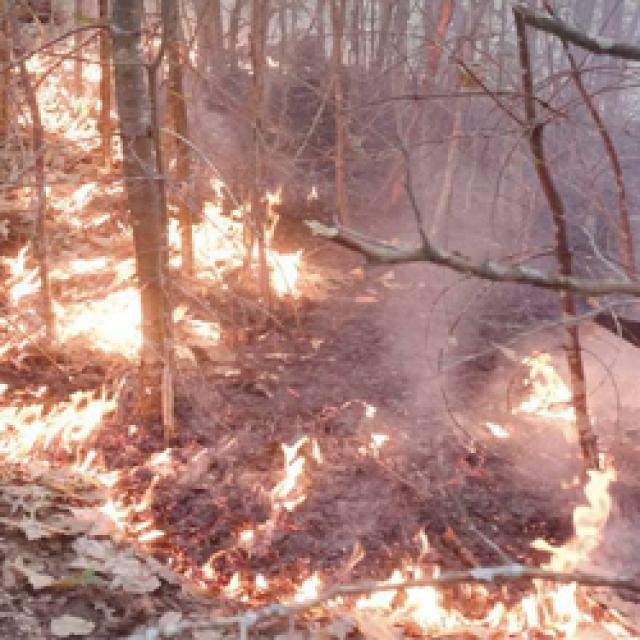Fire: (0, 1, 222, 438), (256, 527, 640, 640), (130, 138, 331, 345), (94, 441, 270, 620), (0, 351, 151, 474), (255, 378, 338, 572), (550, 434, 626, 630), (479, 326, 594, 452)
Smoke: (186, 0, 640, 295), (354, 69, 546, 494), (559, 244, 640, 636)
